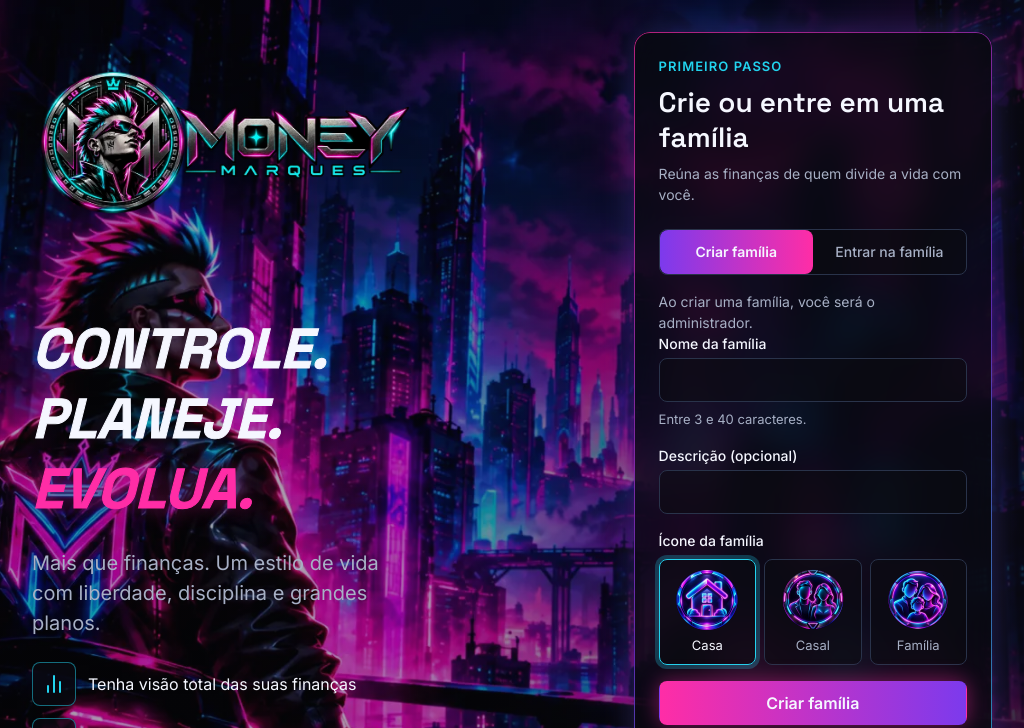
it: FamilyOnboardingPage: criar ou entrar (FAM-001, D-FAM-009) › a aba "Entrar na família" mostra o campo de codigo no lugar do formulario de criacao
Click the tab "Entrar na família": (889, 252) x1=813 y1=230 x2=966 y2=274
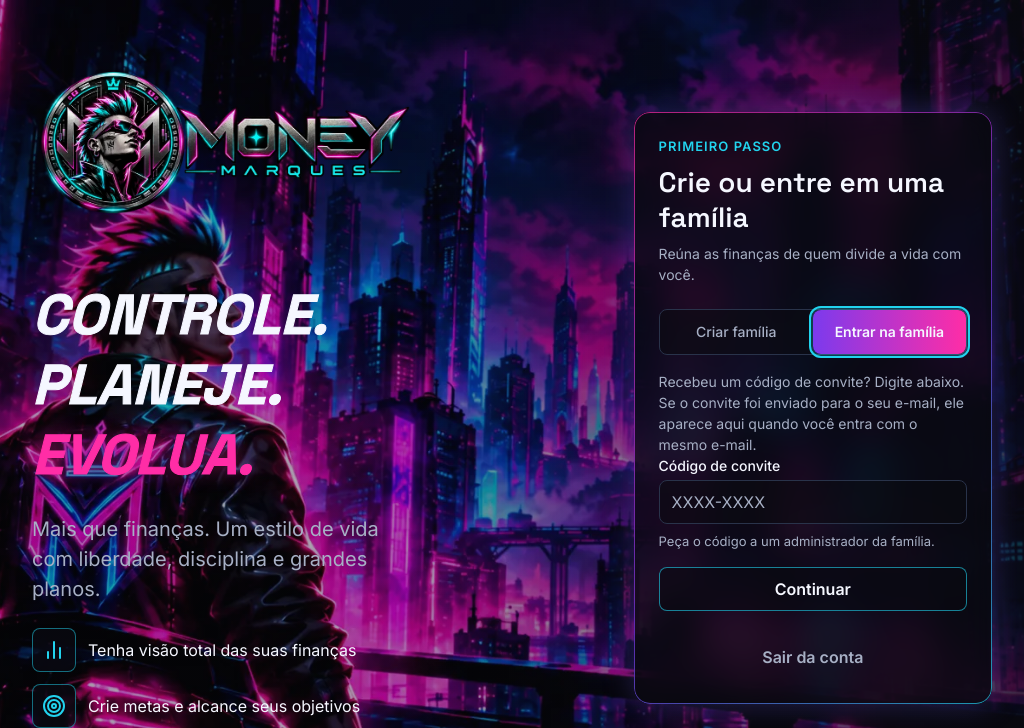
Check: the field labelled "Código de convite" is shown, box x1=659 y1=480 x2=967 y2=524
Check: the text "Recebeu um código de convite" is shown, box x1=659 y1=373 x2=964 y2=453
Check: the label labelled "Nome da família" is gone
